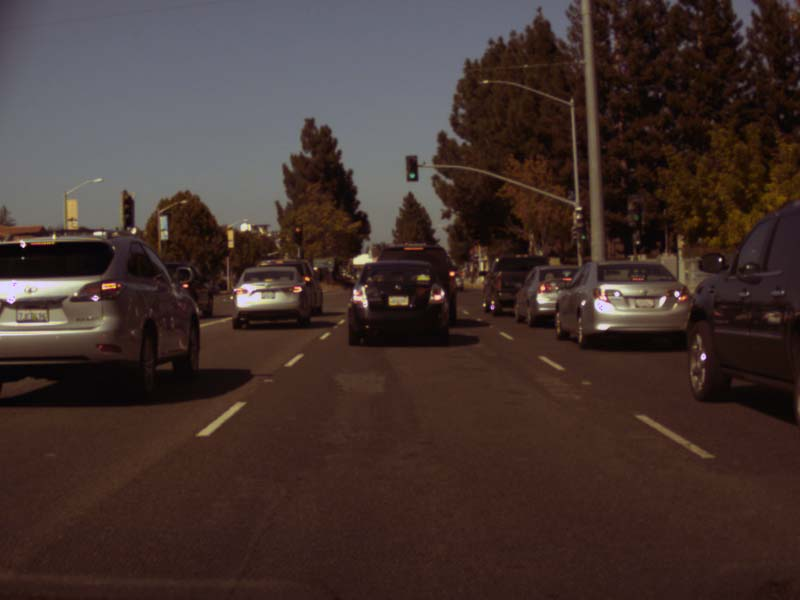Green: (407, 155, 417, 179), (632, 200, 640, 221), (579, 226, 586, 241)
Red: (124, 196, 133, 224), (293, 224, 303, 244)
